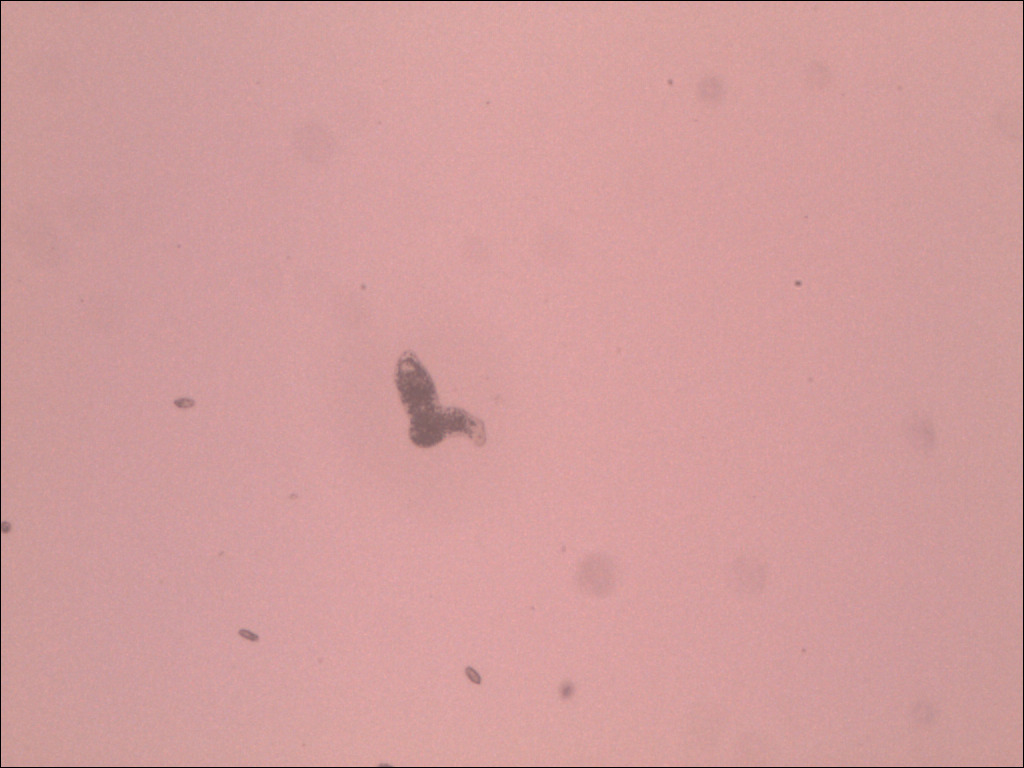amoeba: (385, 339, 499, 461)
